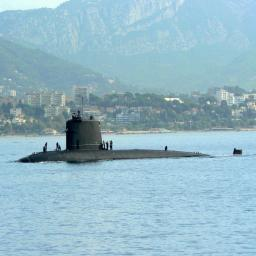submarine: (18, 101, 251, 165)
